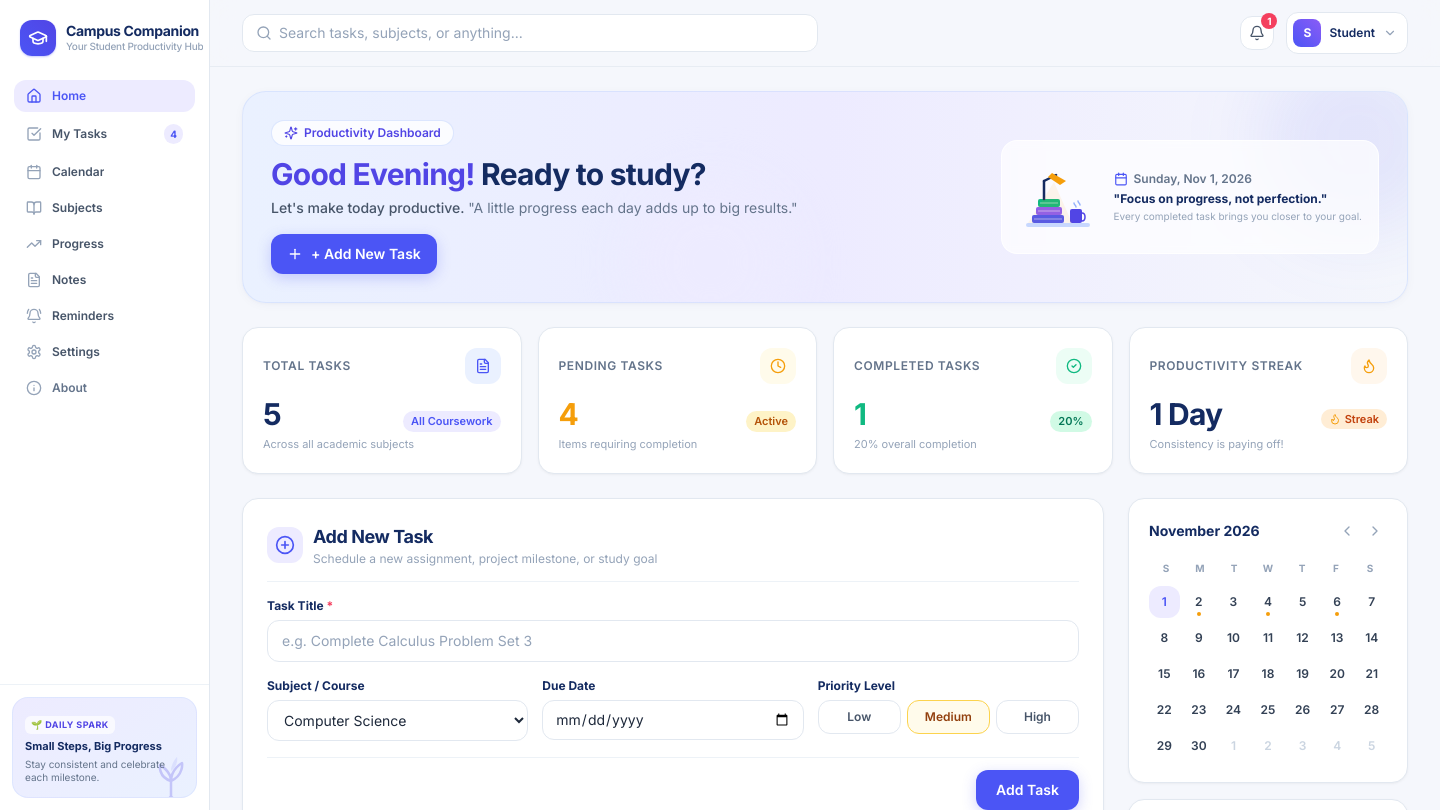
Test: Campus Companion Redesigned Dashboard › navigates to Subjects view and displays course cards
What coordinates should you click on to do the following:
click the button "Subjects"
I would click on:
 (104, 208)
Its box is [14, 192, 195, 224].
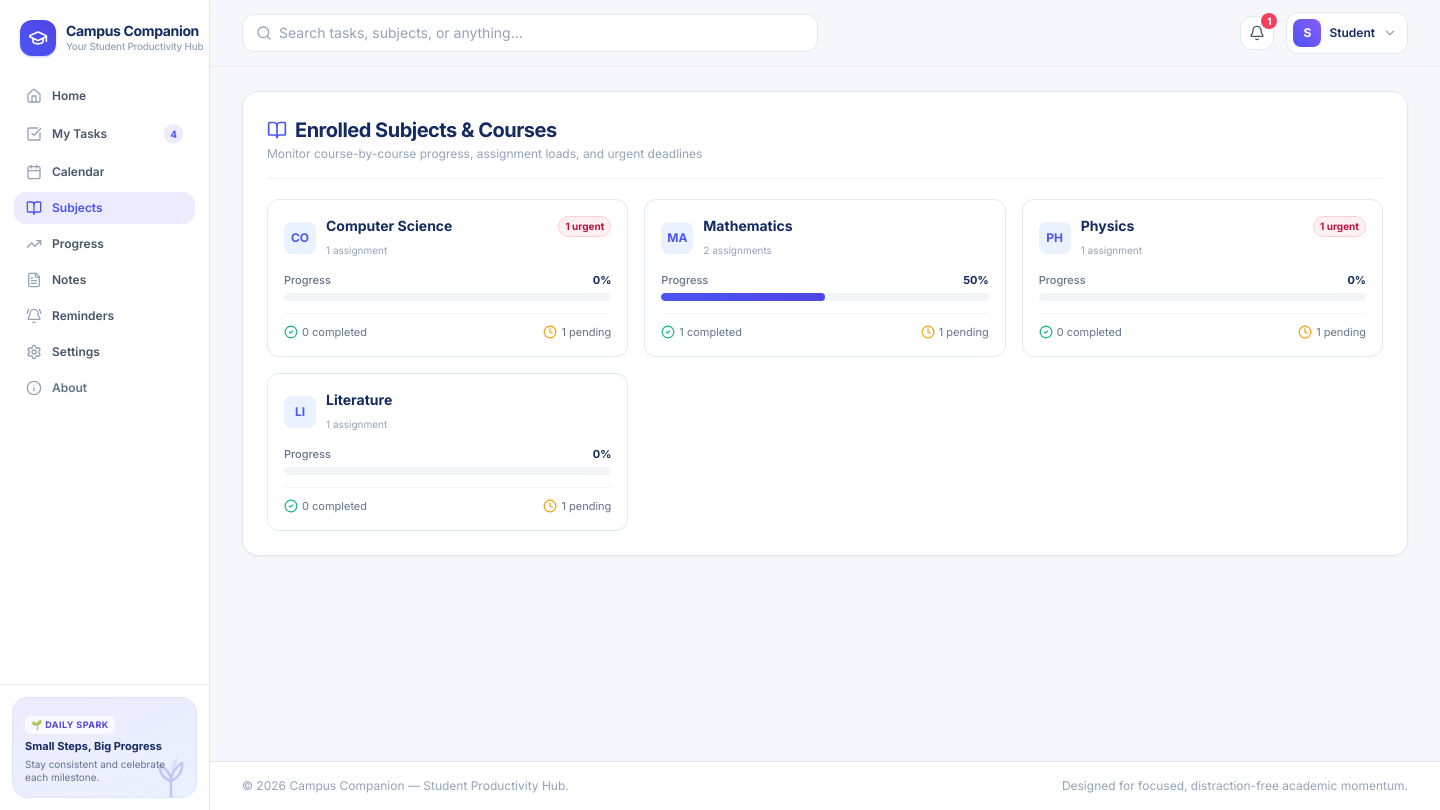
expect the heading "Computer Science" is shown: met, box [326, 216, 452, 236]
expect the text "Enrolled Subjects & Courses" is shown: met, box [295, 116, 557, 144]
